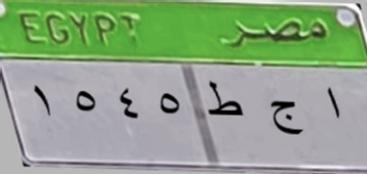1: (32, 81, 54, 124)
4: (116, 84, 142, 127)
5: (154, 87, 182, 123), (75, 84, 99, 119)
Taa: (203, 78, 246, 126)
alif: (322, 84, 345, 125)
jeem: (268, 97, 305, 139)
